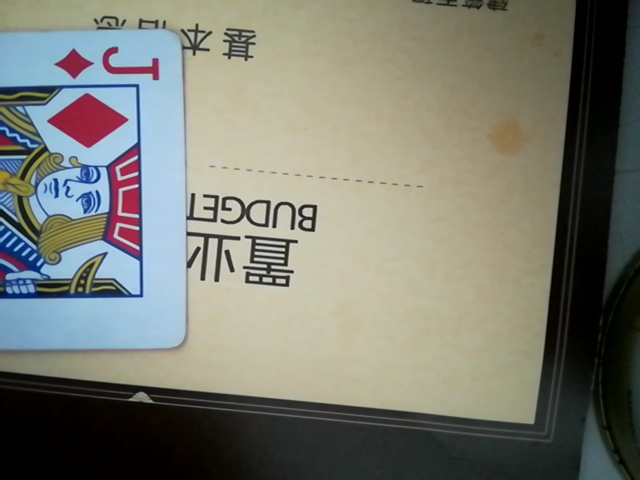fk j: (1, 15, 182, 355)
